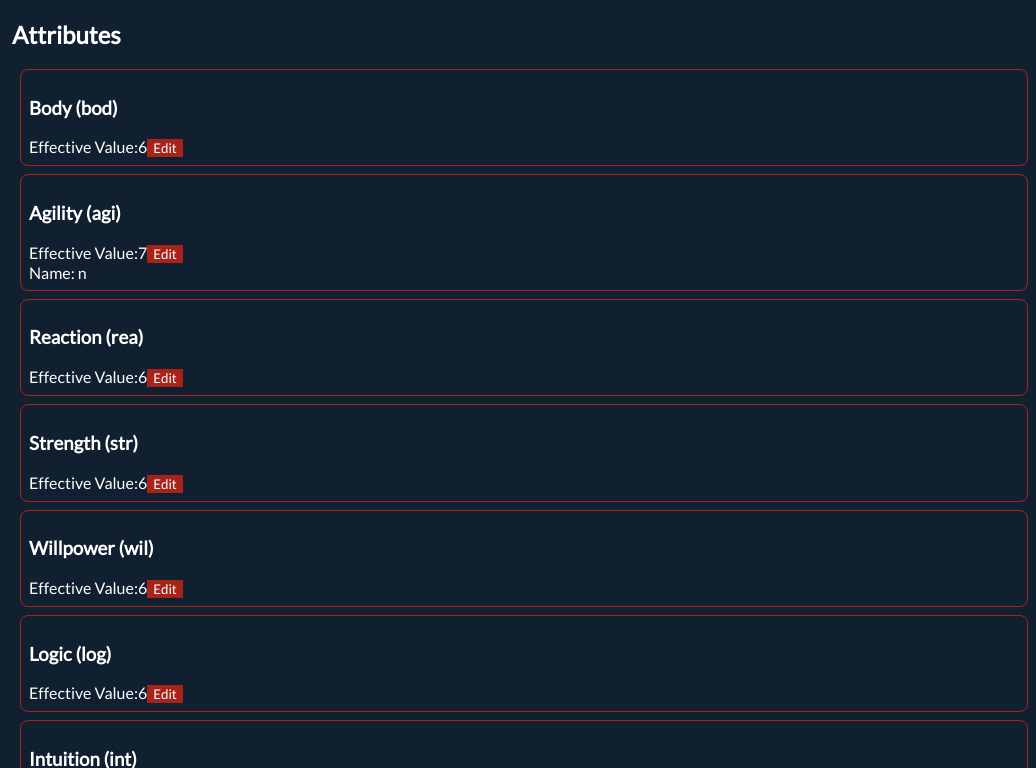
it: Attributes container › editing › should show the edit component when the edit button is clicked
Click the button with test id "Edit.button.component" below "Body" at [165, 148], box x1=147 y1=139 x2=183 y2=157
(page scrolled)
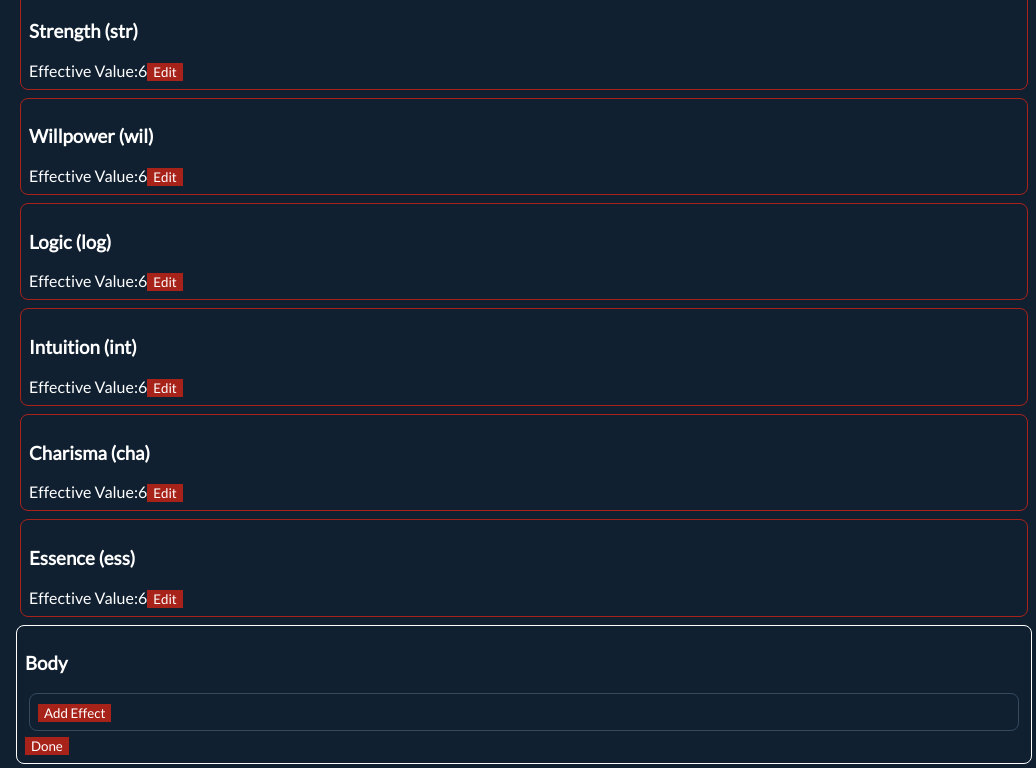
Check: the element with test id "Body.edit-item.component" is shown, box x1=16 y1=625 x2=1032 y2=764
